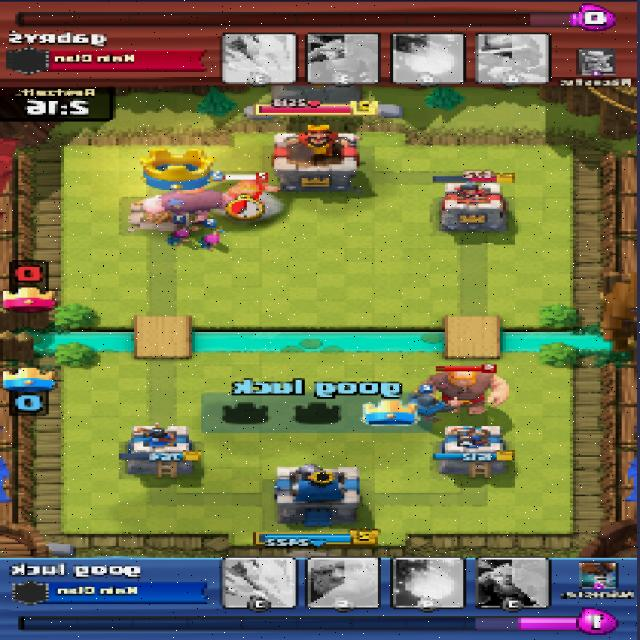Enemy-Giant: (415, 371, 512, 414)
Enemy-Knight: (224, 181, 280, 216)
Player-Archer: (164, 226, 193, 246), (197, 229, 224, 250)
Player-Giant: (140, 186, 235, 225)
Player-Knight: (390, 395, 464, 423)
